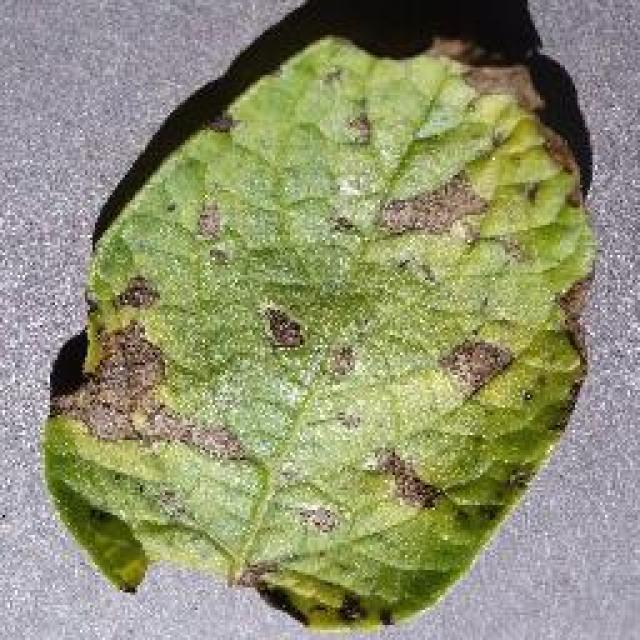Potato: (38, 25, 598, 633)
